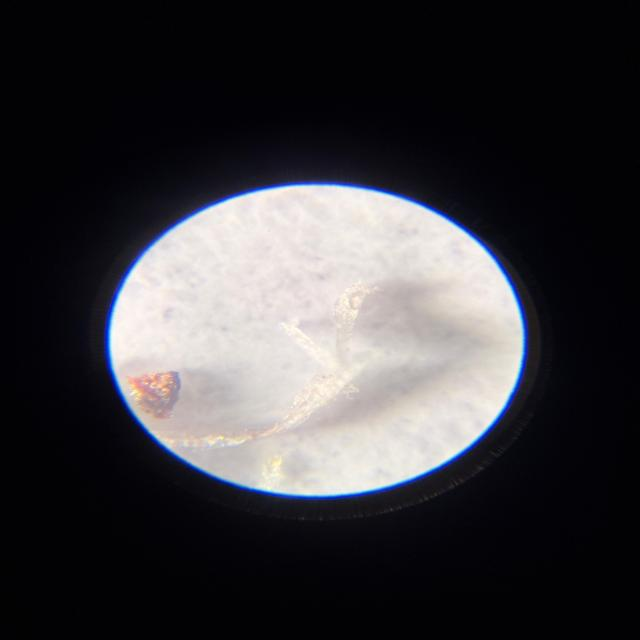microplastic_type_0: (127, 371, 181, 420)
microplastic_type_1: (267, 282, 379, 434), (160, 425, 287, 449), (257, 454, 293, 492)
